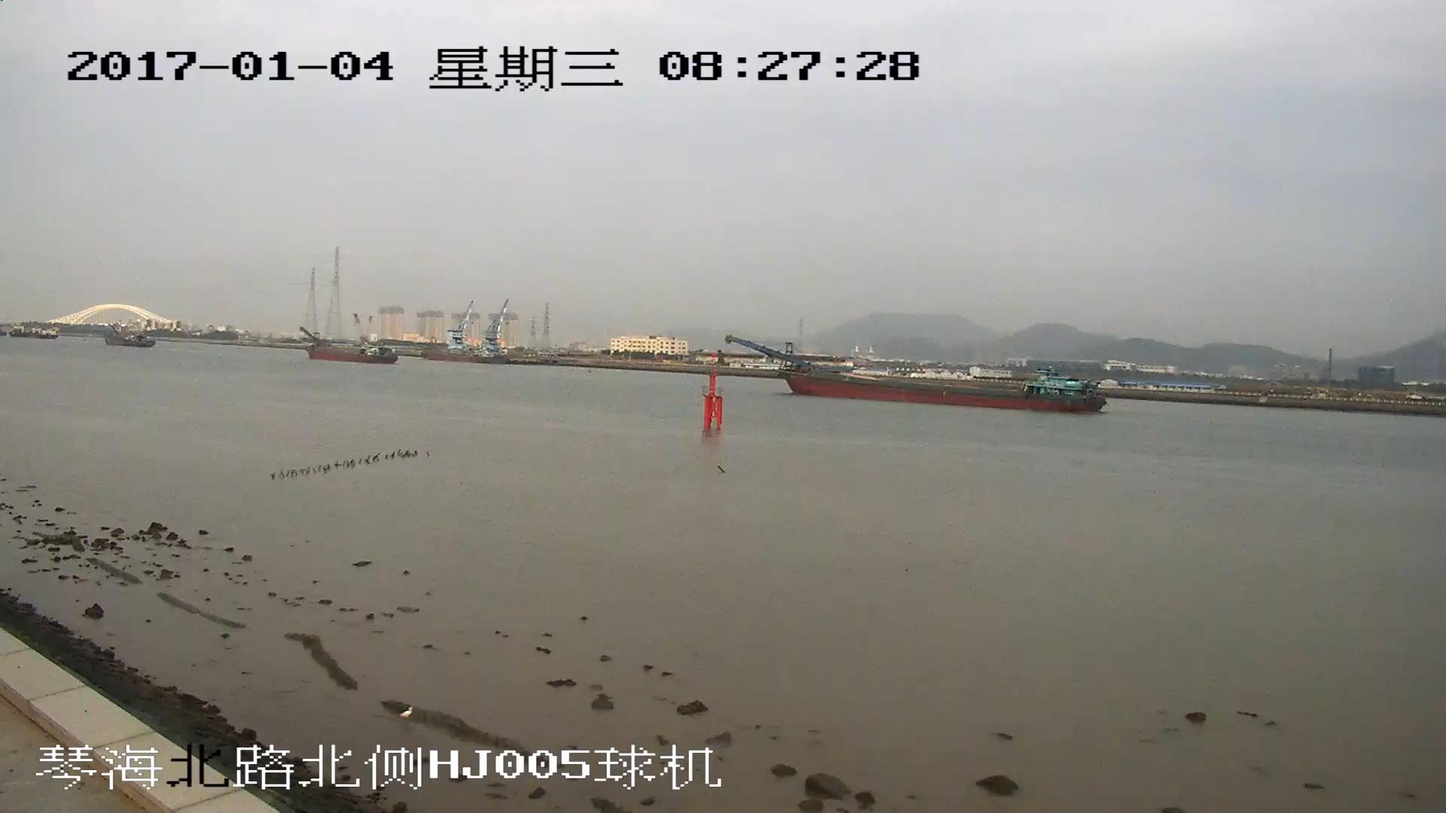bulk cargo carrier: (727, 336, 1100, 413), (301, 328, 395, 364)
